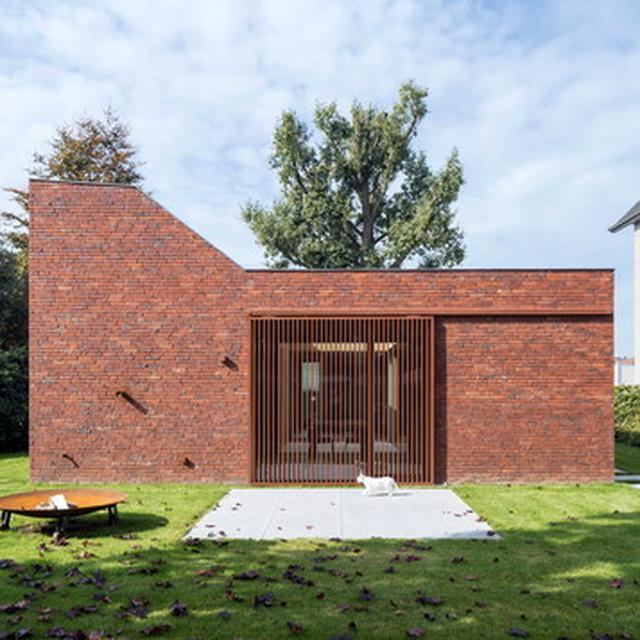building: (25, 168, 612, 483)
